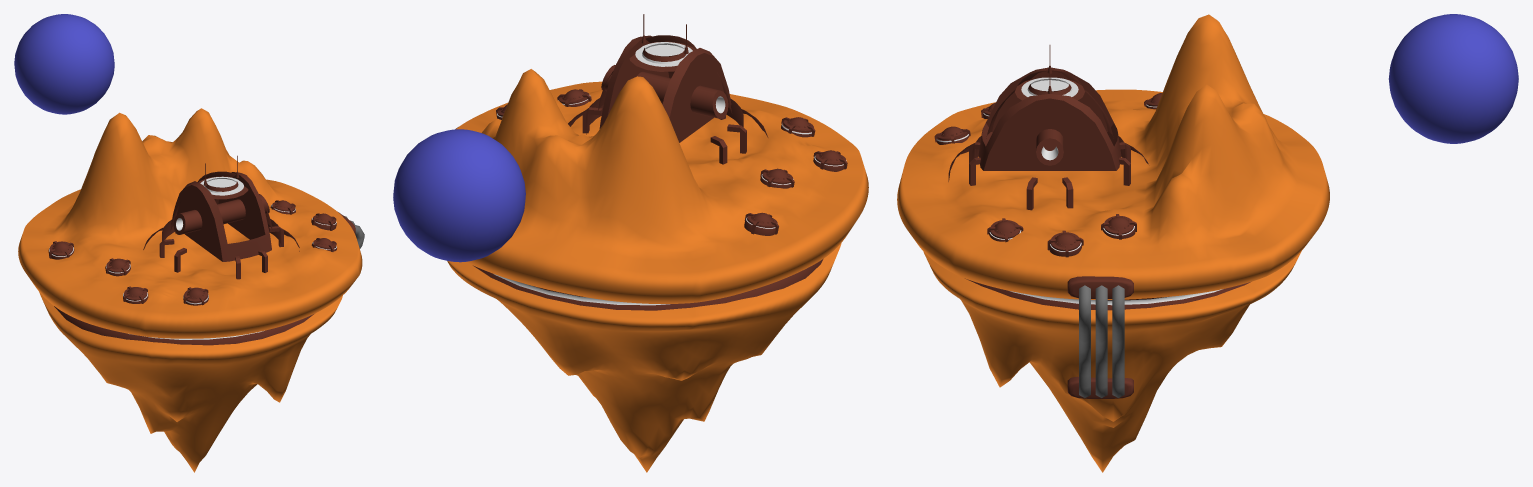
The model's file is Isla RubenMartinez.fbx.
The picture shows the model from 3 angles, left to right: view 1: azimuth 30°, elevation 25°; view 2: azimuth 150°, elevation 25°; view 3: azimuth 270°, elevation 25°; orthographic projection. The views are drawn at different scales.
Parts seen in each view (by area): view 1: Isla, Planeta, EdificioCentral, Luz, Casa 5, Casa 3, Casa 4, Casa 6; view 2: Isla, Planeta, EdificioCentral, Luz, Casa 3, Casa 6, Casa 4, Casa 5; view 3: Isla, Planeta, EdificioCentral, Cables, Luz, EntradaCables, Casa 7, SalidaCables, Casa 2.
Part boxes in pixels (x1,y1,x2,y2): Isla: (18, 108, 362, 472); Planeta: (14, 14, 114, 114); EdificioCentral: (143, 155, 299, 279); Luz: (54, 306, 313, 345); Casa 5: (183, 287, 208, 305); Casa 3: (48, 241, 74, 259); Casa 4: (105, 258, 130, 276); Casa 6: (123, 286, 148, 303); Isla: (447, 69, 868, 472); Planeta: (393, 129, 525, 262); EdificioCentral: (568, 14, 768, 164); Luz: (473, 259, 823, 310); Casa 3: (744, 212, 778, 235); Casa 6: (813, 150, 847, 171); Casa 4: (760, 168, 794, 188); Casa 5: (781, 117, 815, 137); Isla: (897, 14, 1329, 472); Planeta: (1388, 14, 1518, 143); EdificioCentral: (948, 45, 1148, 210); Cables: (1079, 285, 1124, 397); Luz: (965, 278, 1250, 310); EntradaCables: (1067, 276, 1133, 298); Casa 7: (1047, 230, 1083, 257); SalidaCables: (1067, 376, 1133, 398); Casa 2: (1101, 214, 1136, 239).
Bounding box in the file's own units: 9631 × 10546 × 13014.
